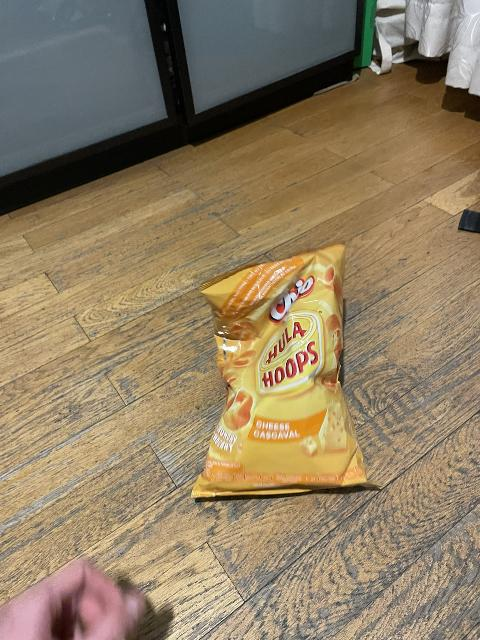Chio Hula Hoops Cheese 70g: (194, 252, 380, 498)
